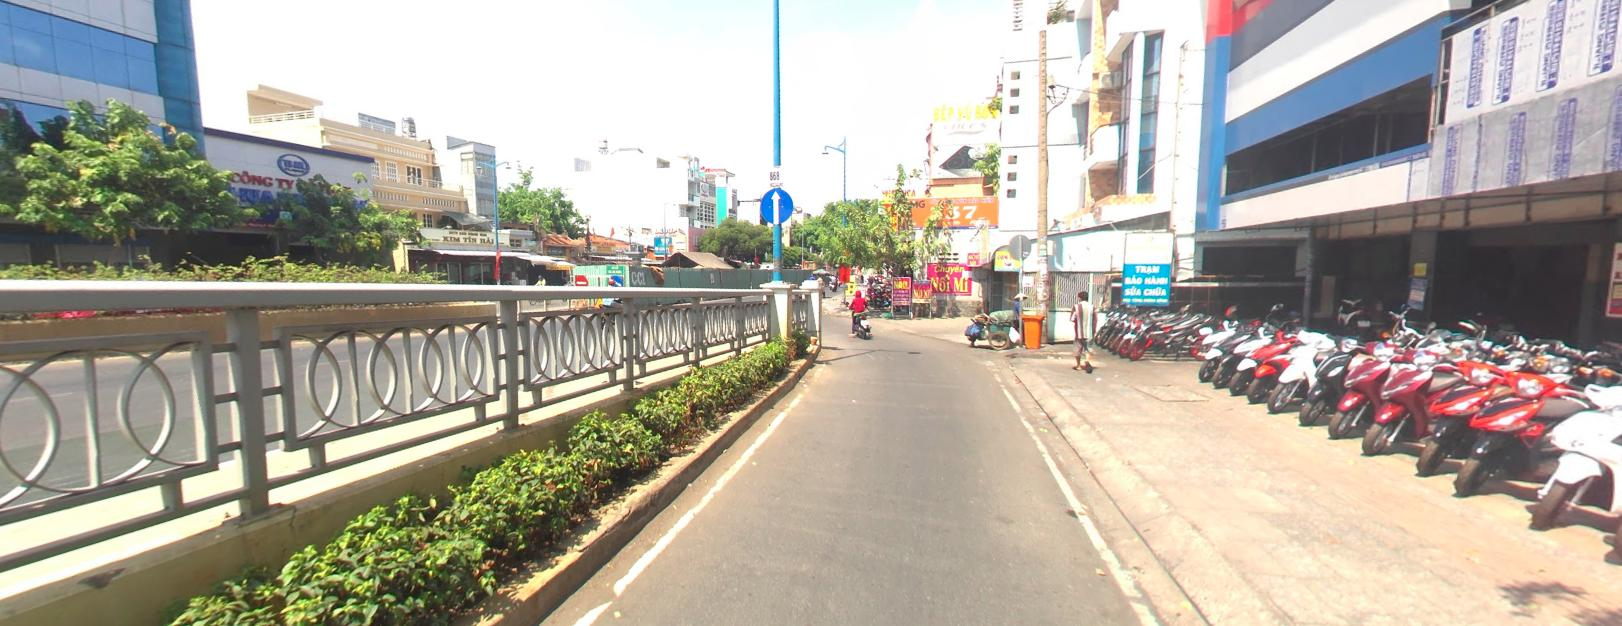Cam nguoc chieu: (574, 273, 588, 287)
Hieu lenh: (757, 185, 794, 223), (609, 273, 623, 288)
